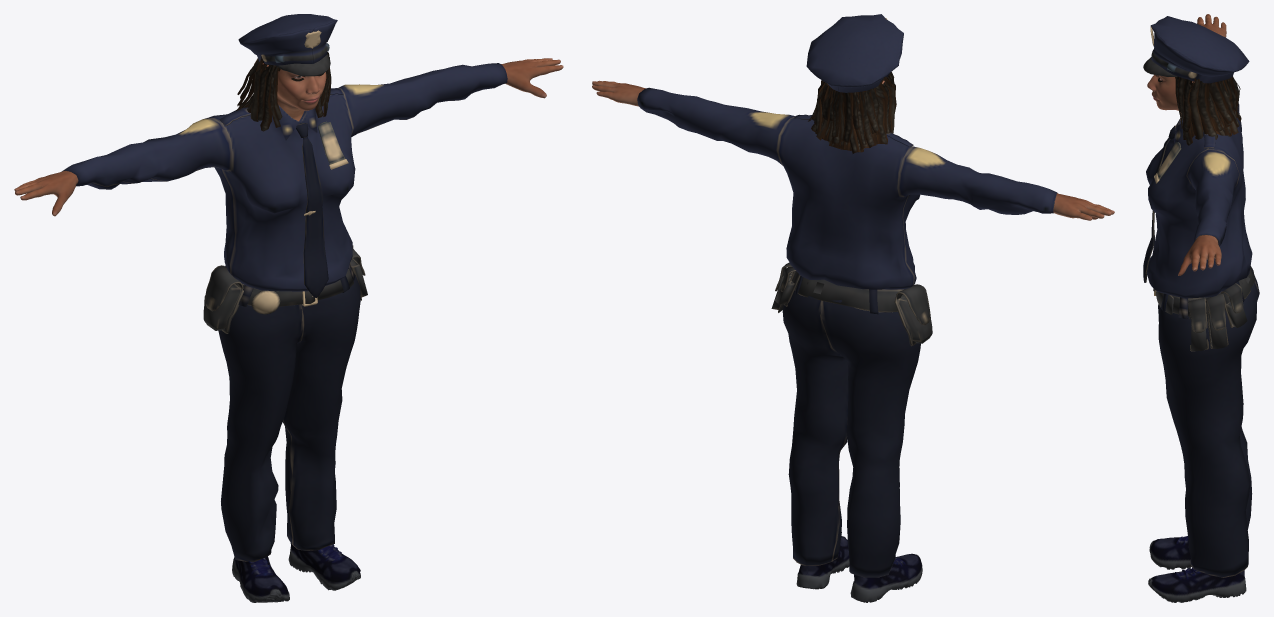
The model's file is female_pol_v2.glb.
3 views of the same model, side by side, from view 1: azimuth 30°, elevation 25°; view 2: azimuth 150°, elevation 25°; view 3: azimuth 270°, elevation 25° (orthographic). The views are drawn at different scales.
Visible parts, largest first — view 1: Object_3, Object_4, Object_2; view 2: Object_3, Object_4, Object_2; view 3: Object_3, Object_4, Object_2.
Part boxes in pixels (box(x1,y1,x2,y2)): Object_3: box(203, 14, 367, 602); Object_4: box(61, 63, 507, 297); Object_2: box(14, 58, 563, 284); Object_3: box(771, 14, 932, 602); Object_4: box(637, 87, 1057, 289); Object_2: box(592, 80, 1114, 220); Object_3: box(1143, 16, 1259, 602); Object_4: box(1143, 78, 1252, 298); Object_2: box(1147, 14, 1226, 275).
Size of the model in its own units: 169 by 171 by 32.57.
1 material, 1 textured.
